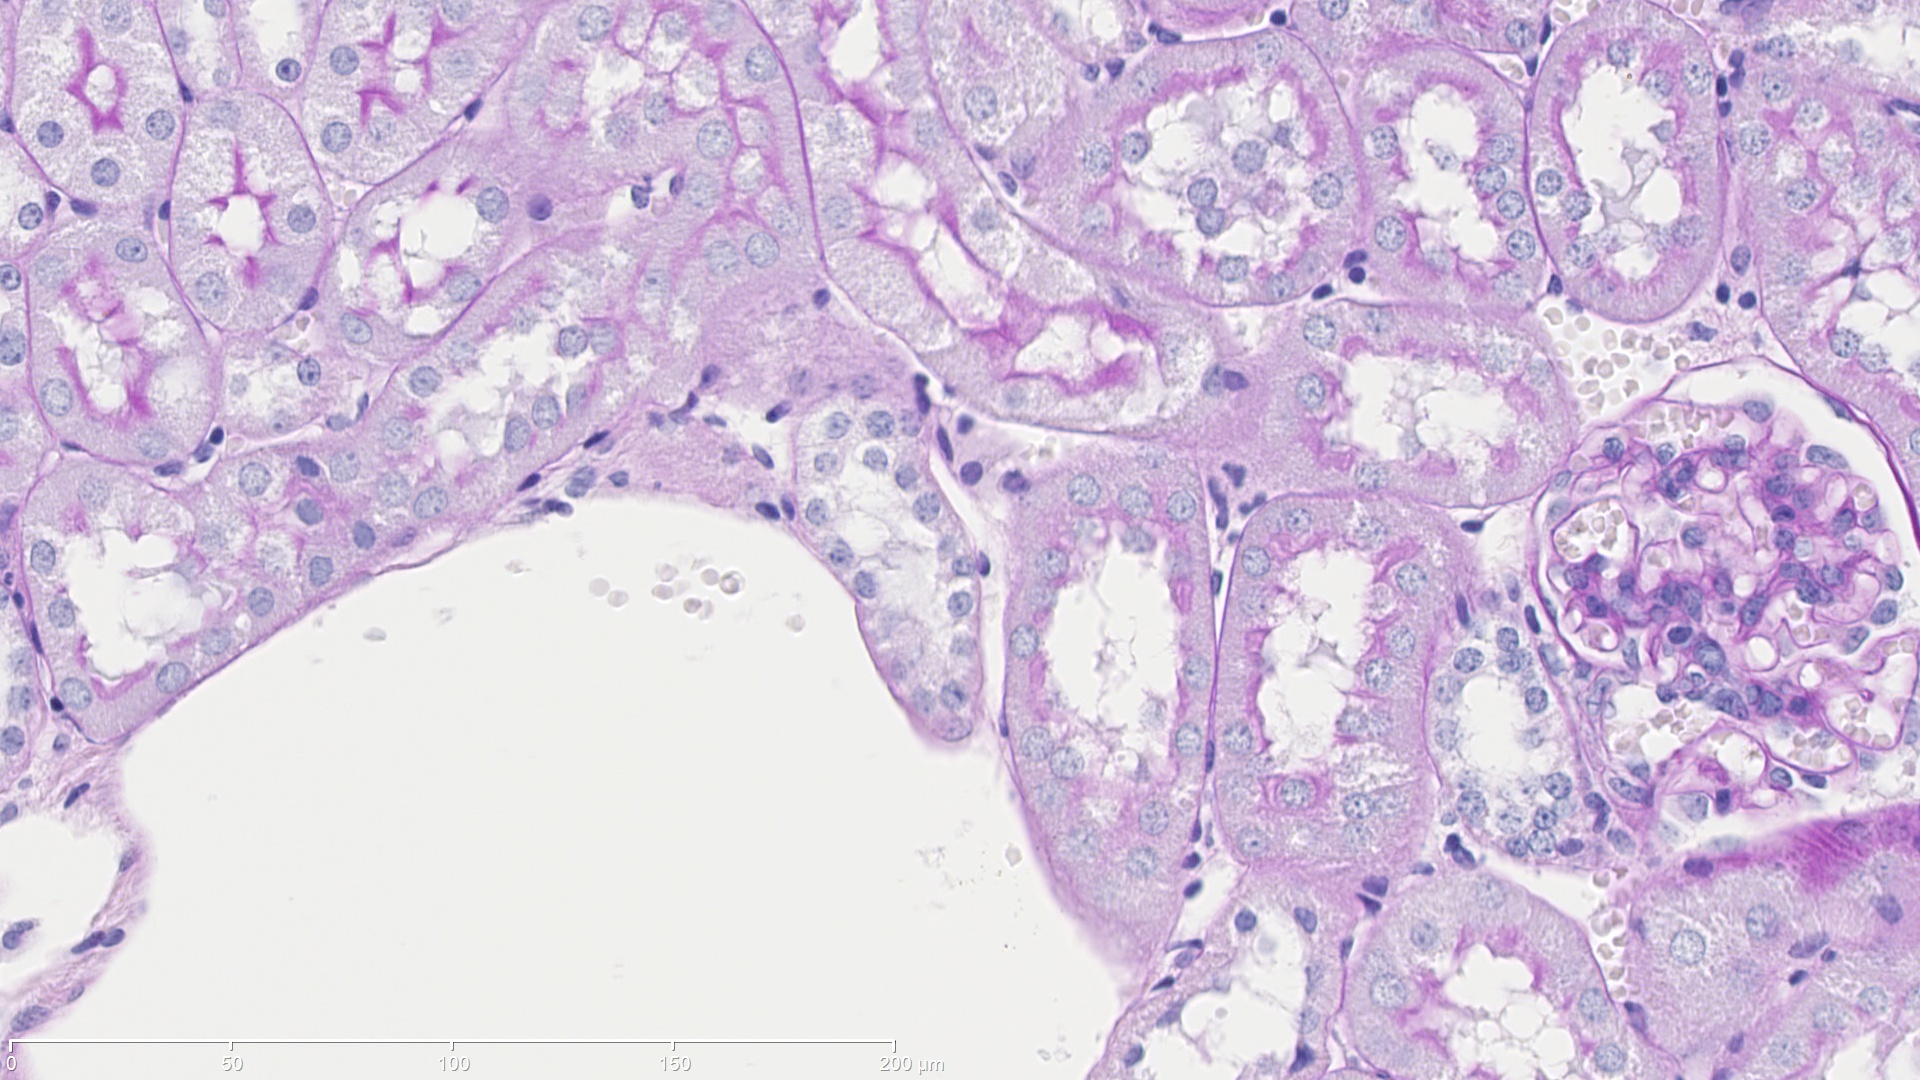Glomeruli: (1528, 397, 1920, 752)
